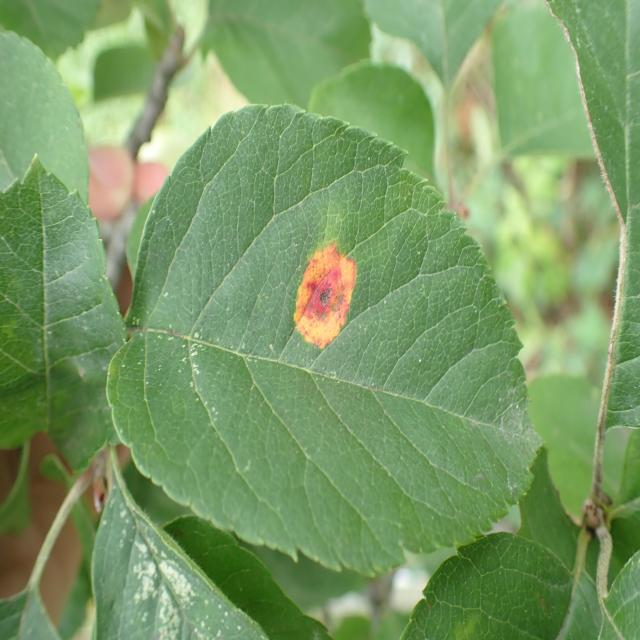Rust: (282, 225, 359, 352)
